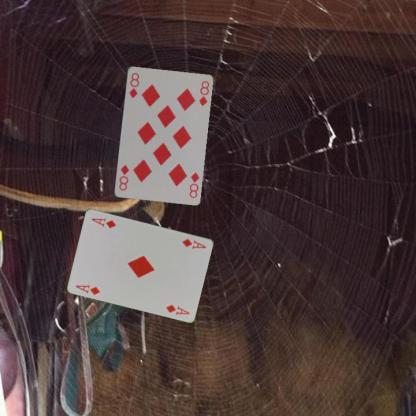8d: (187, 169, 200, 199), (127, 70, 140, 99)
Ad: (73, 282, 102, 296), (180, 236, 207, 250)
